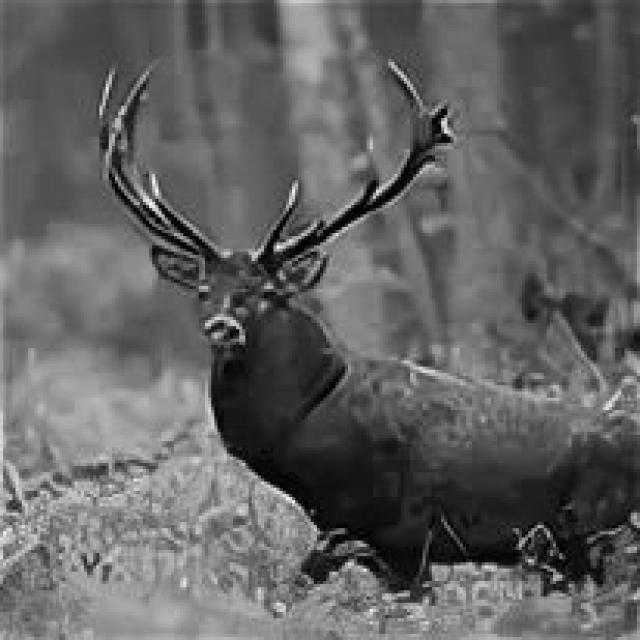Deer: (102, 89, 610, 583)
